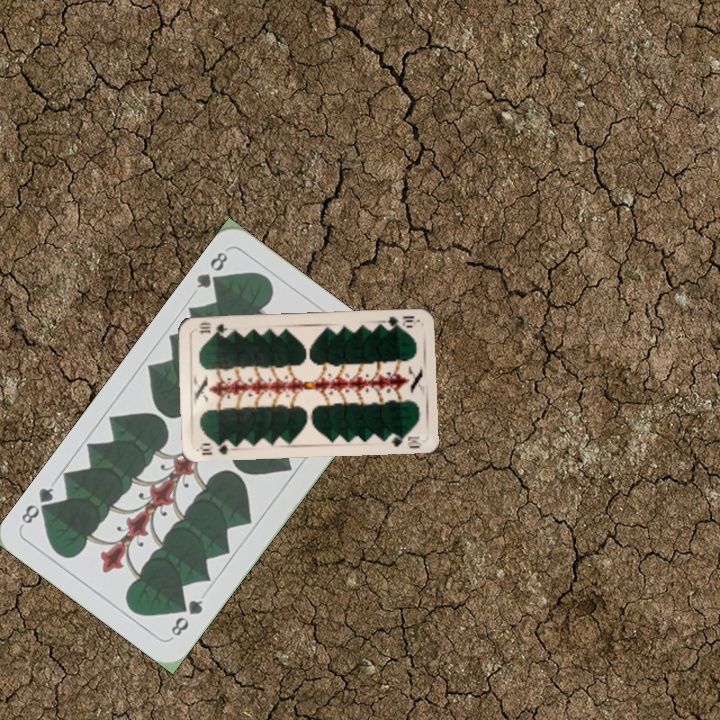G10: (196, 438, 235, 458), (379, 312, 419, 330)
G8: (166, 595, 206, 640), (192, 247, 231, 293)
